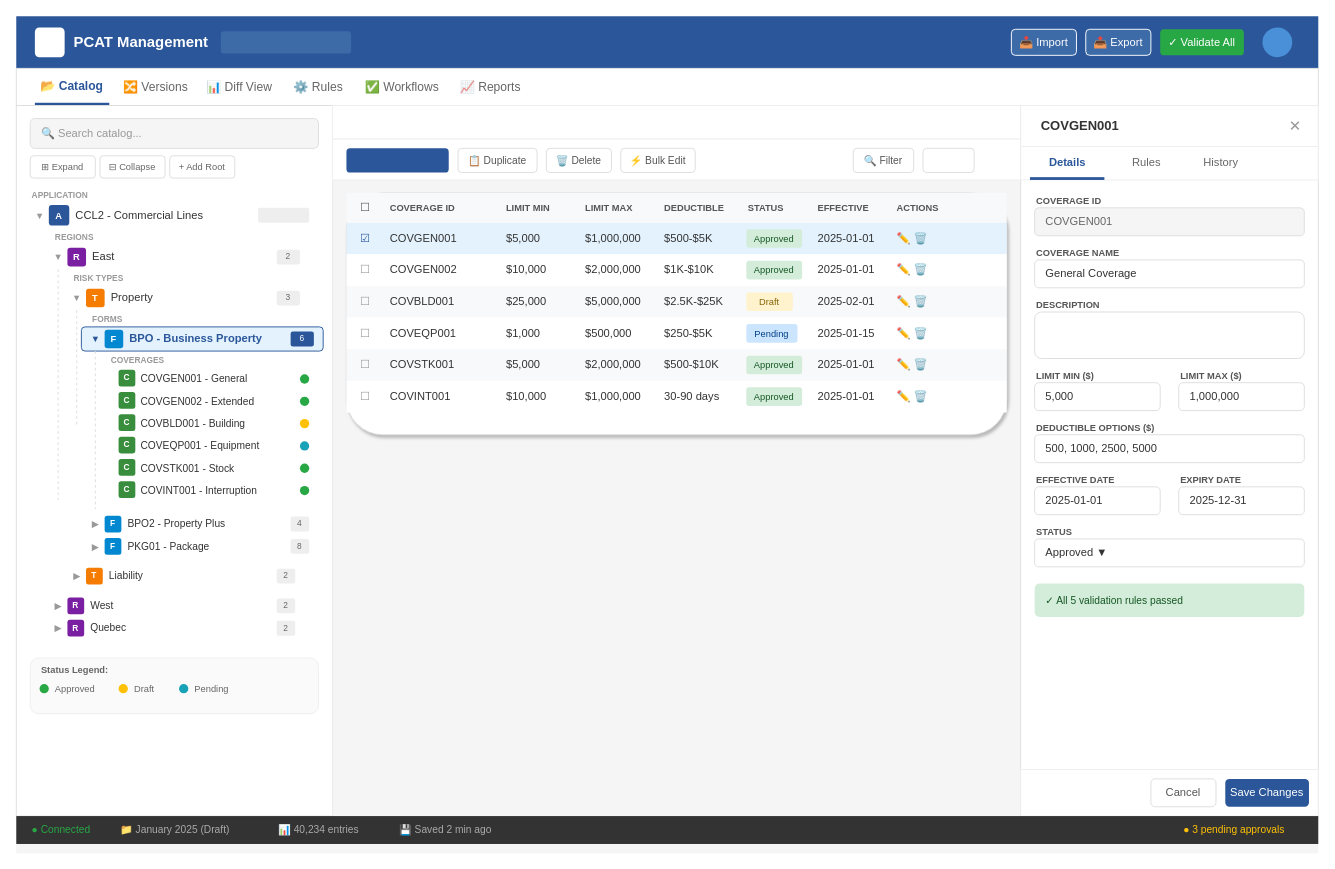
Image size: 1335x869. Some labels were removed from this diagram. The centre of each missing label's shape, as x and y in pixels:
+ Add Coverage: (x=397, y=160)
3 regions: (x=283, y=214)
CCL2 › East › Property › BPO - Business Property: (x=676, y=122)
JD: (x=1277, y=42)
PC: (x=49, y=42)
Standard general property coverage for commercial buildings: (x=1169, y=335)
↕️ Sort: (x=948, y=160)
📁 January 2025 Release: (x=285, y=42)
